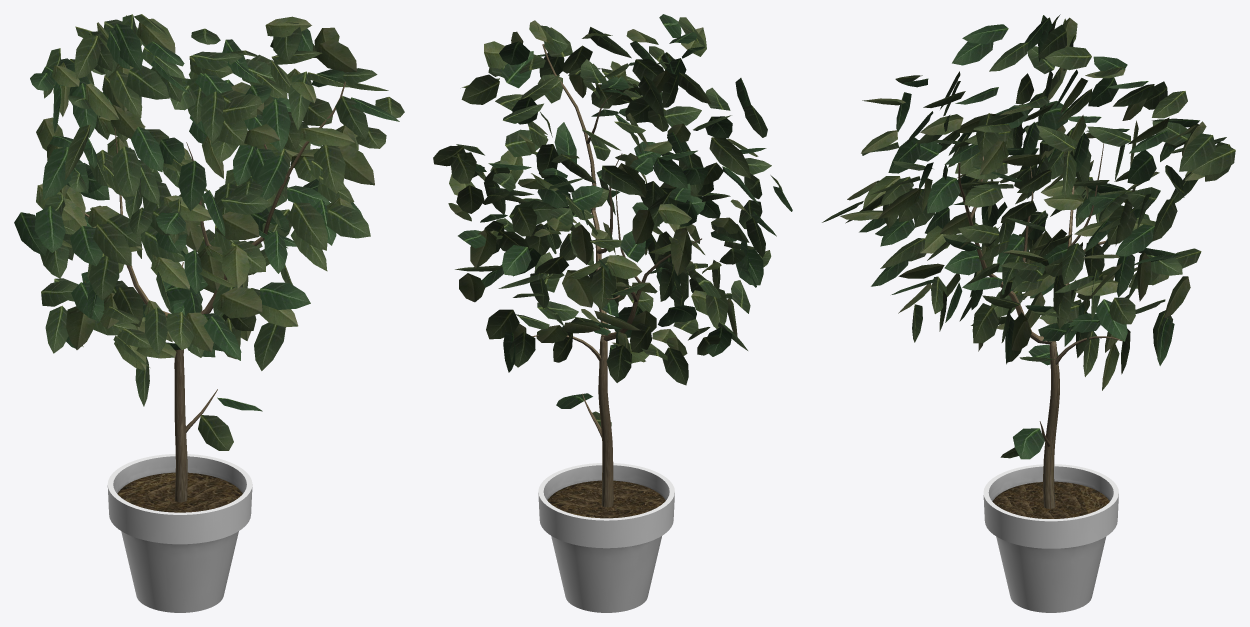
Rendered from tree_small.dae.
3 views of the same model, side by side, from view 1: azimuth 30°, elevation 25°; view 2: azimuth 150°, elevation 25°; view 3: azimuth 270°, elevation 25° (orthographic). The views are drawn at different scales.
Visible parts, largest first — view 1: leaves, Vase, tree_s; view 2: leaves, Vase, tree_s; view 3: leaves, Vase, tree_s.
Boxes of the visible parts, box(x1,y1,x2,y2) form: leaves: box(14, 14, 404, 450); Vase: box(107, 454, 252, 612); tree_s: box(81, 81, 345, 502); leaves: box(433, 14, 792, 427); Vase: box(538, 463, 674, 612); tree_s: box(532, 44, 701, 507); leaves: box(822, 14, 1235, 459); Vase: box(983, 464, 1118, 612); tree_s: box(958, 143, 1122, 508).
Size of the model in its own units: 1.41 by 2.27 by 1.55.
Materials: 3 (3 with a texture image).
